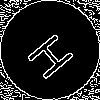H: (25, 25, 83, 82)
